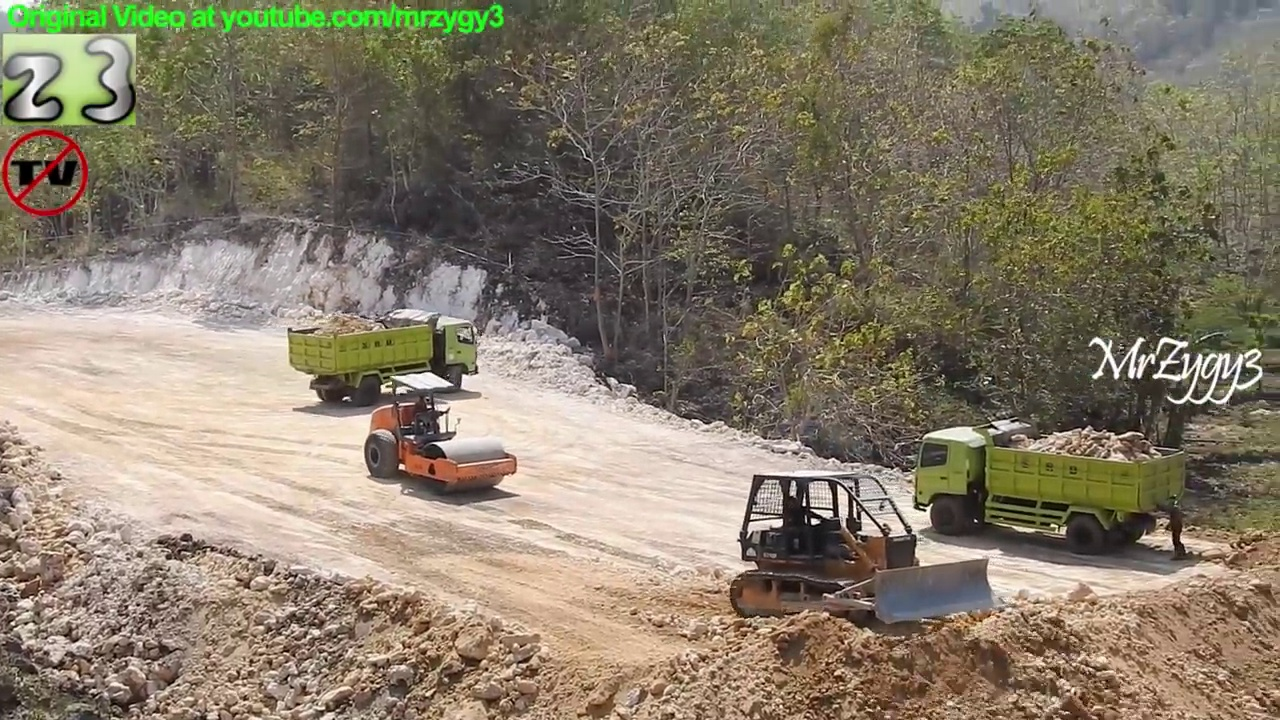bulldozer: (727, 464, 1010, 626)
compactor: (360, 368, 520, 503)
truck: (902, 413, 1192, 562), (284, 305, 484, 409)
